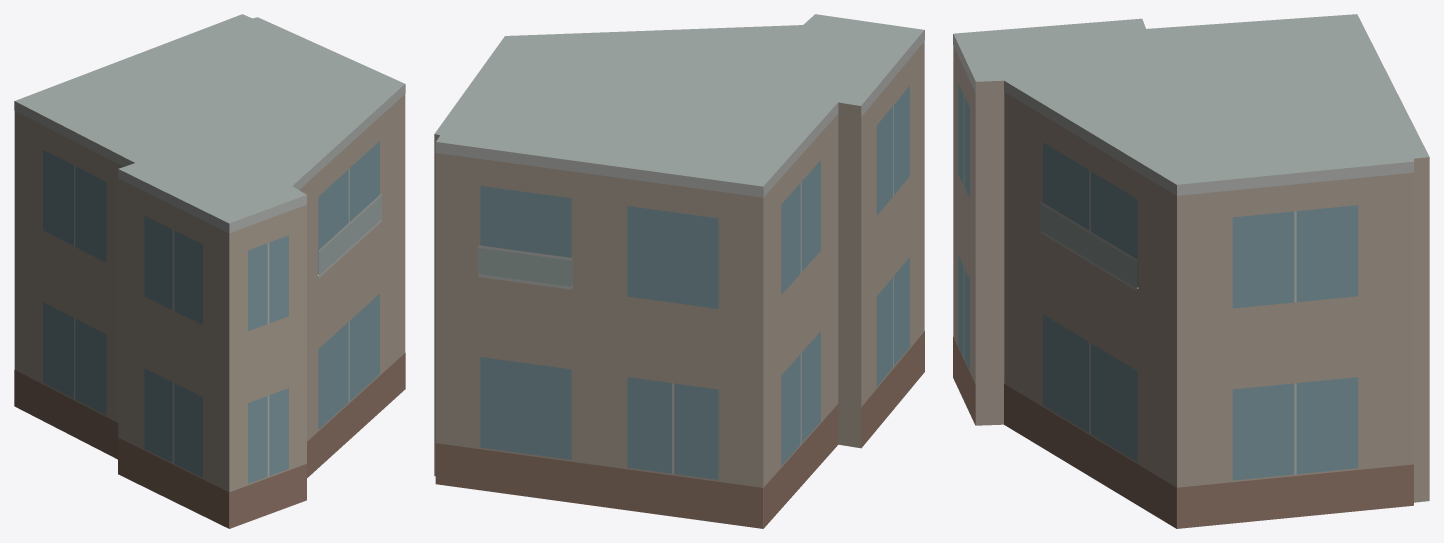
Rendered from survey-upis-33040901.glb.
3 views of the same model, side by side, from view 1: azimuth 30°, elevation 25°; view 2: azimuth 150°, elevation 25°; view 3: azimuth 270°, elevation 25° (orthographic). The views are drawn at different scales.
Parts seen in each view (by area): view 1: survey-upis-33040901.tmp; view 2: survey-upis-33040901.tmp; view 3: survey-upis-33040901.tmp.
Boxes of the visible parts, x1=… form: survey-upis-33040901.tmp: x1=14, y1=14, x2=405, y2=528; survey-upis-33040901.tmp: x1=434, y1=14, x2=924, y2=528; survey-upis-33040901.tmp: x1=953, y1=14, x2=1429, y2=528.
Size of the model in its own units: 8.1 by 7.6 by 9.55.
